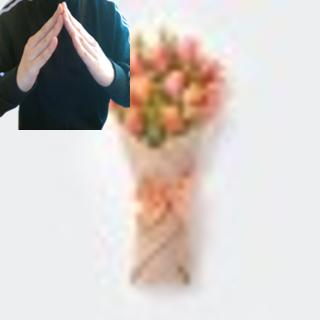HOME: (16, 2, 113, 91)
